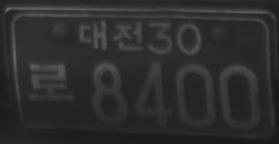0: (218, 62, 263, 133), (173, 61, 218, 130), (175, 20, 202, 57)
3: (146, 19, 174, 57)
4: (133, 59, 173, 129)
8: (88, 60, 129, 126)
대전_O: (77, 19, 145, 53)
로: (25, 62, 77, 103)
